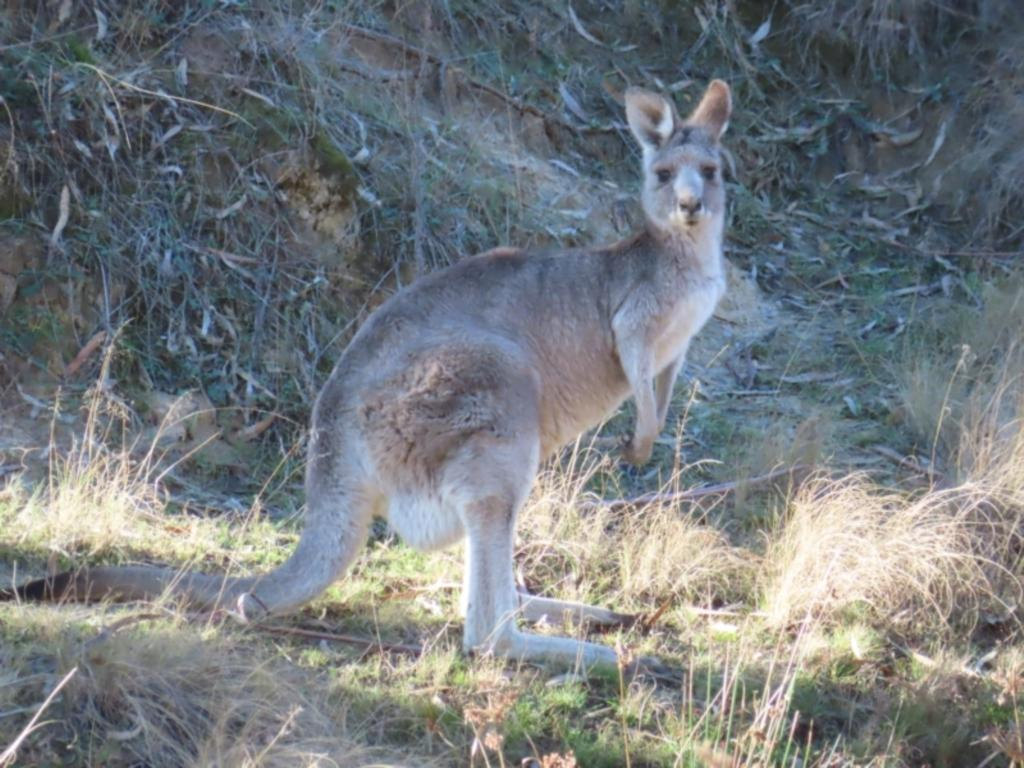Eastern grey kangaroo: (0, 81, 738, 676)
